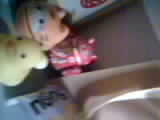duck: (3, 23, 58, 97)
